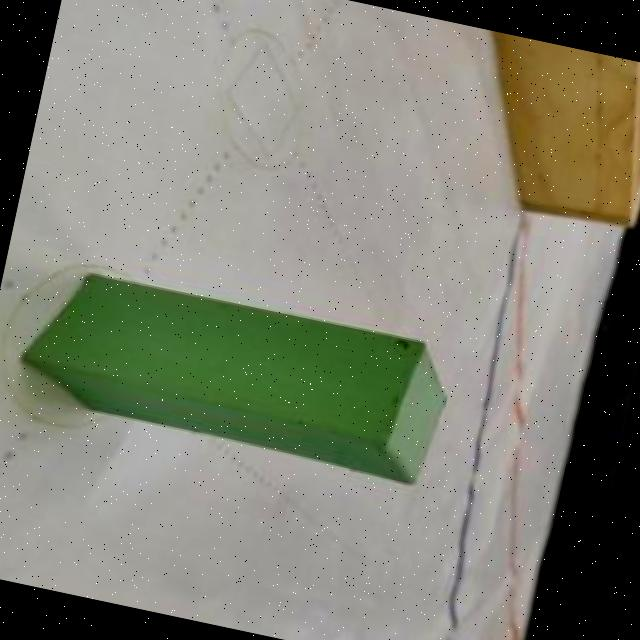greenbox: (11, 254, 462, 491)
